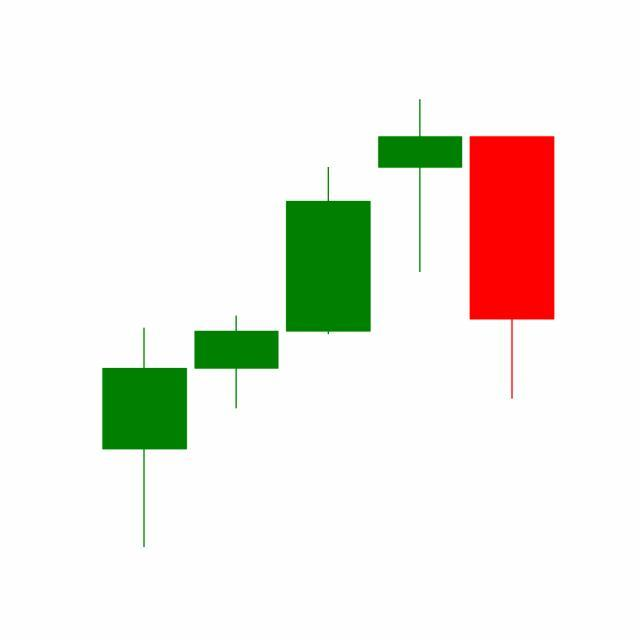Evening Star: (280, 100, 555, 404)
